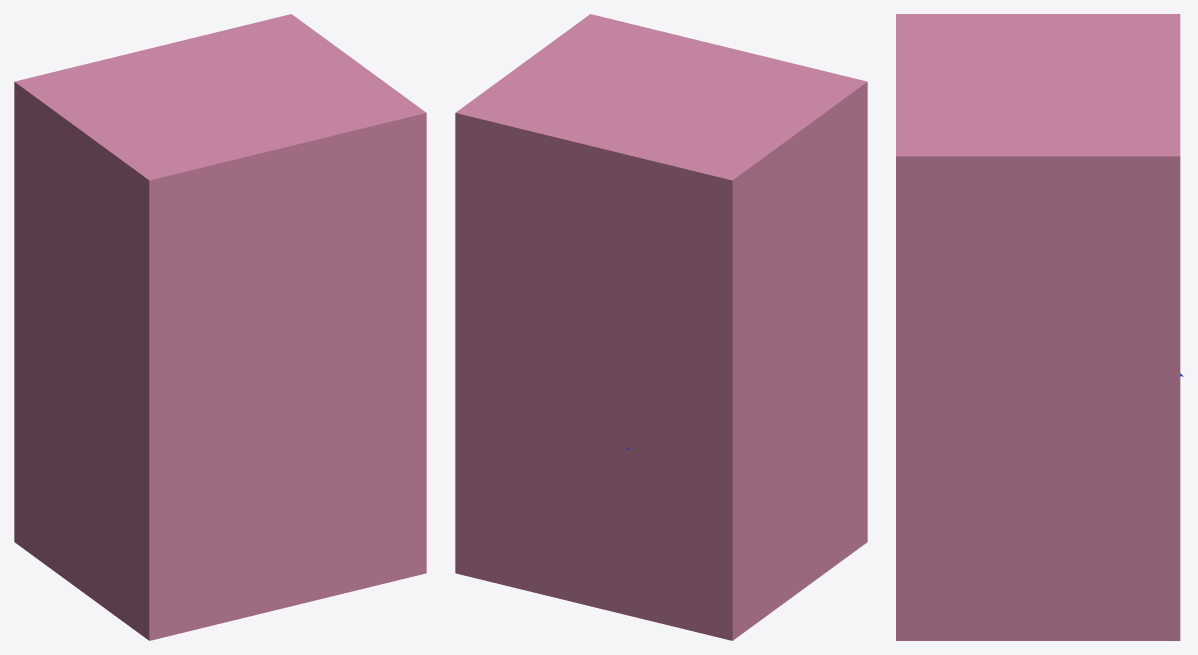
Rendered from tree_aspen_small_a.dae.
3 views of the same model, side by side, from view 1: azimuth 30°, elevation 25°; view 2: azimuth 150°, elevation 25°; view 3: azimuth 270°, elevation 25° (orthographic). The views are drawn at different scales.
Parts seen in each view (by area): view 1: Untitled; view 2: Untitled; view 3: Untitled.
Part boxes in pixels (bbox=[...]): Untitled: bbox=[14, 14, 426, 640]; Untitled: bbox=[455, 14, 867, 640]; Untitled: bbox=[896, 14, 1180, 640].
Bounding box in the file's own units: 4.11 × 3.51 × 6.53.
